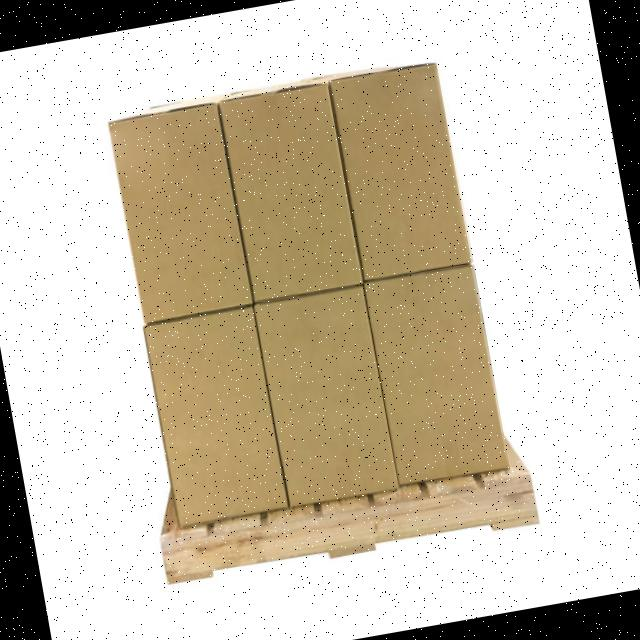Wooden-Pallets: (154, 466, 540, 596)
